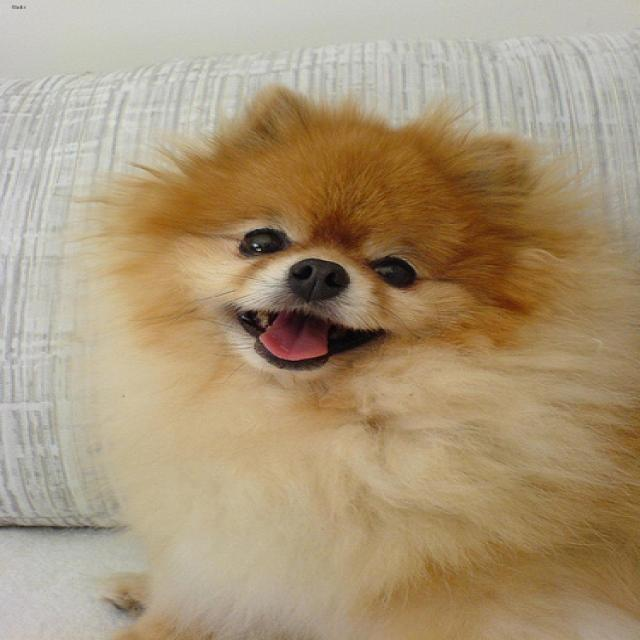dog-pomeranian: (56, 73, 637, 637)
